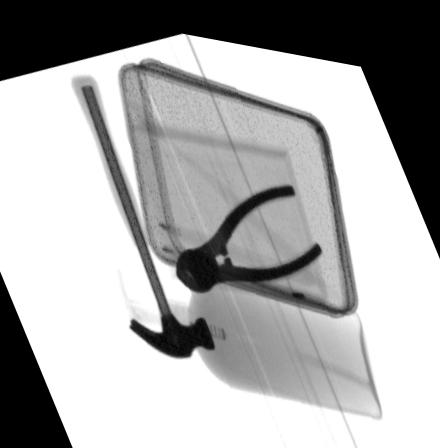Hammer: (70, 72, 215, 353)
Pliers: (175, 172, 323, 285)
